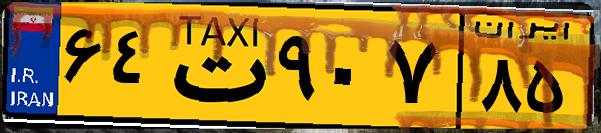0: (330, 28, 385, 110)
4: (110, 28, 158, 98)
5: (525, 38, 570, 115)
6: (57, 26, 110, 100)
7: (385, 28, 445, 110)
8: (475, 38, 525, 113)
9: (270, 28, 330, 110)
ت: (158, 12, 270, 120)
